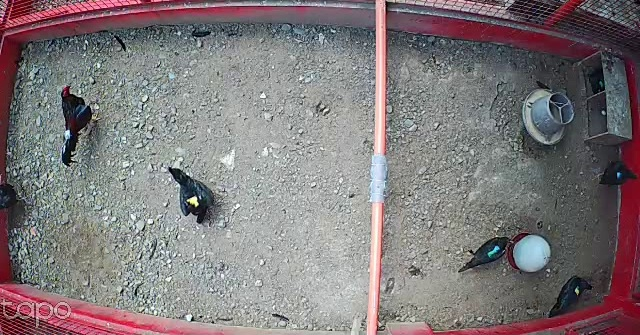Chicken: (166, 164, 216, 228), (547, 271, 595, 322), (459, 234, 512, 275), (589, 158, 639, 191)
Rooster: (60, 81, 105, 167)
Saddle_Color_Blue: (616, 170, 623, 178)
Saddle_Color_Yellow: (186, 194, 202, 209)
Saddle_Color_YellowGreen: (574, 285, 583, 296)
